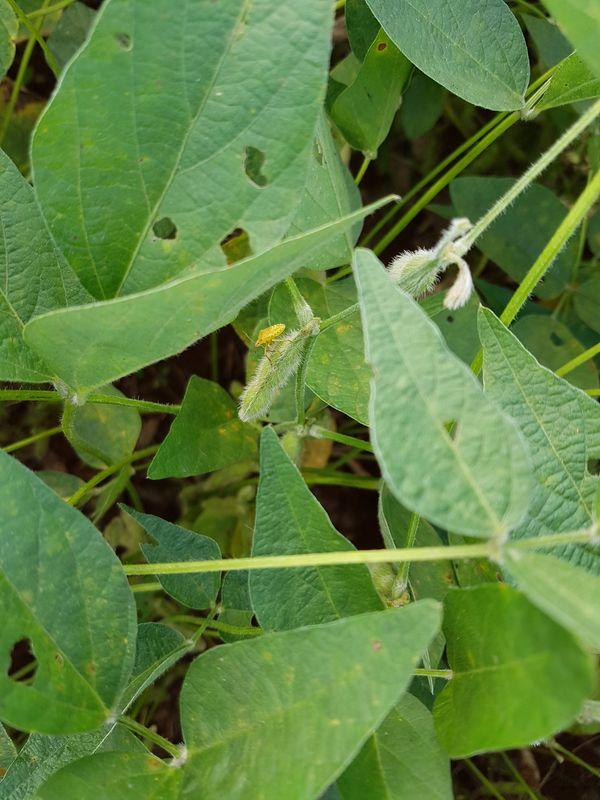Euschistus_heros_ninfa: (240, 317, 302, 369)
